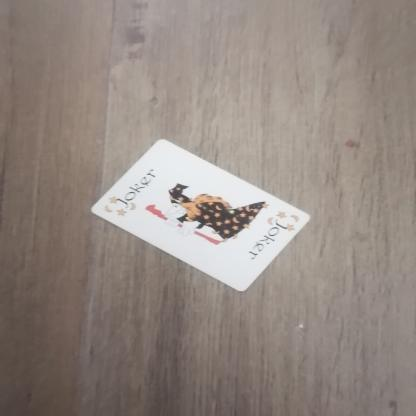BLACK JOKER: (95, 158, 169, 223)
